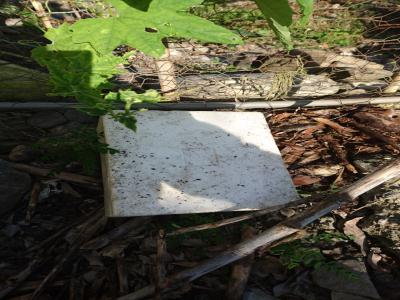styrofoam: (88, 104, 304, 221)
